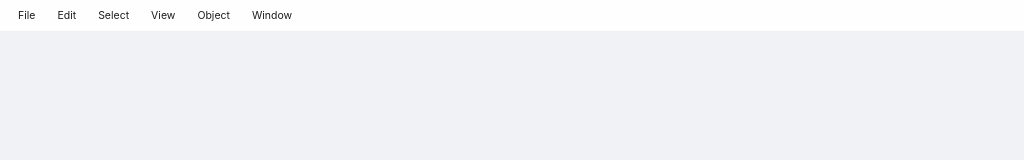
MenuBar behavior › closes menu after running a command
What coordinates should you click on to do the following:
click the button "File"
I would click on:
 (27, 16)
Its box is [10,5,43,26].
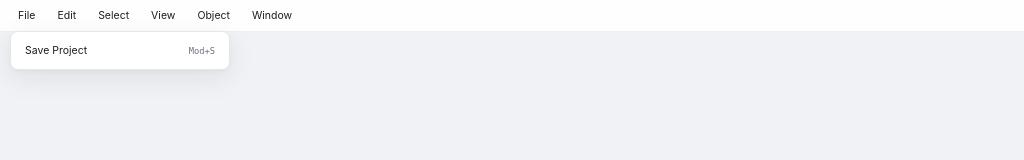
What coordinates should you click on to do the following:
click the button "Save Project Mod+S"
I would click on:
 (120, 50)
Its box is [17,38,223,63].
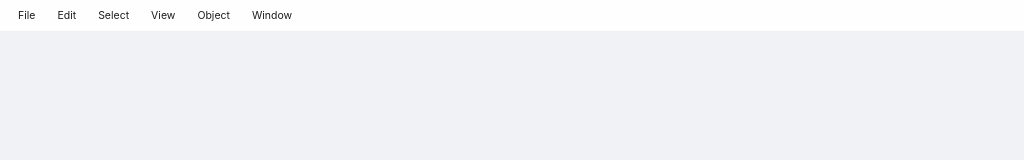
Check: the button "Save Project" is gone
